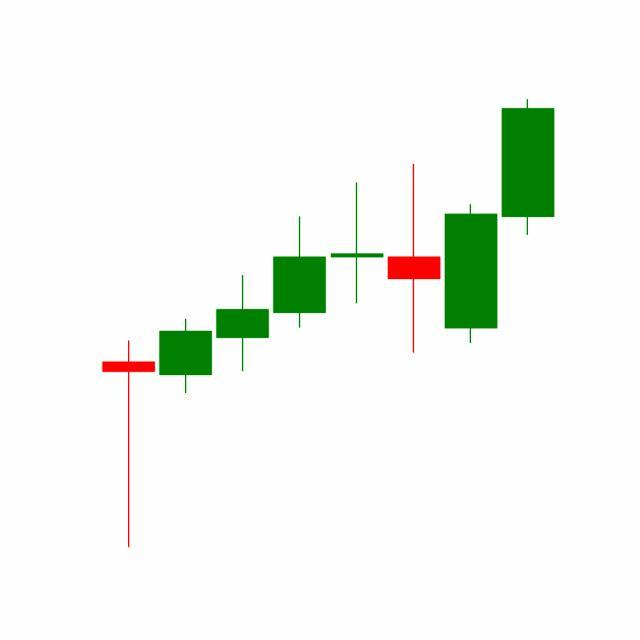Hikkake Pattern: (270, 100, 555, 358)
